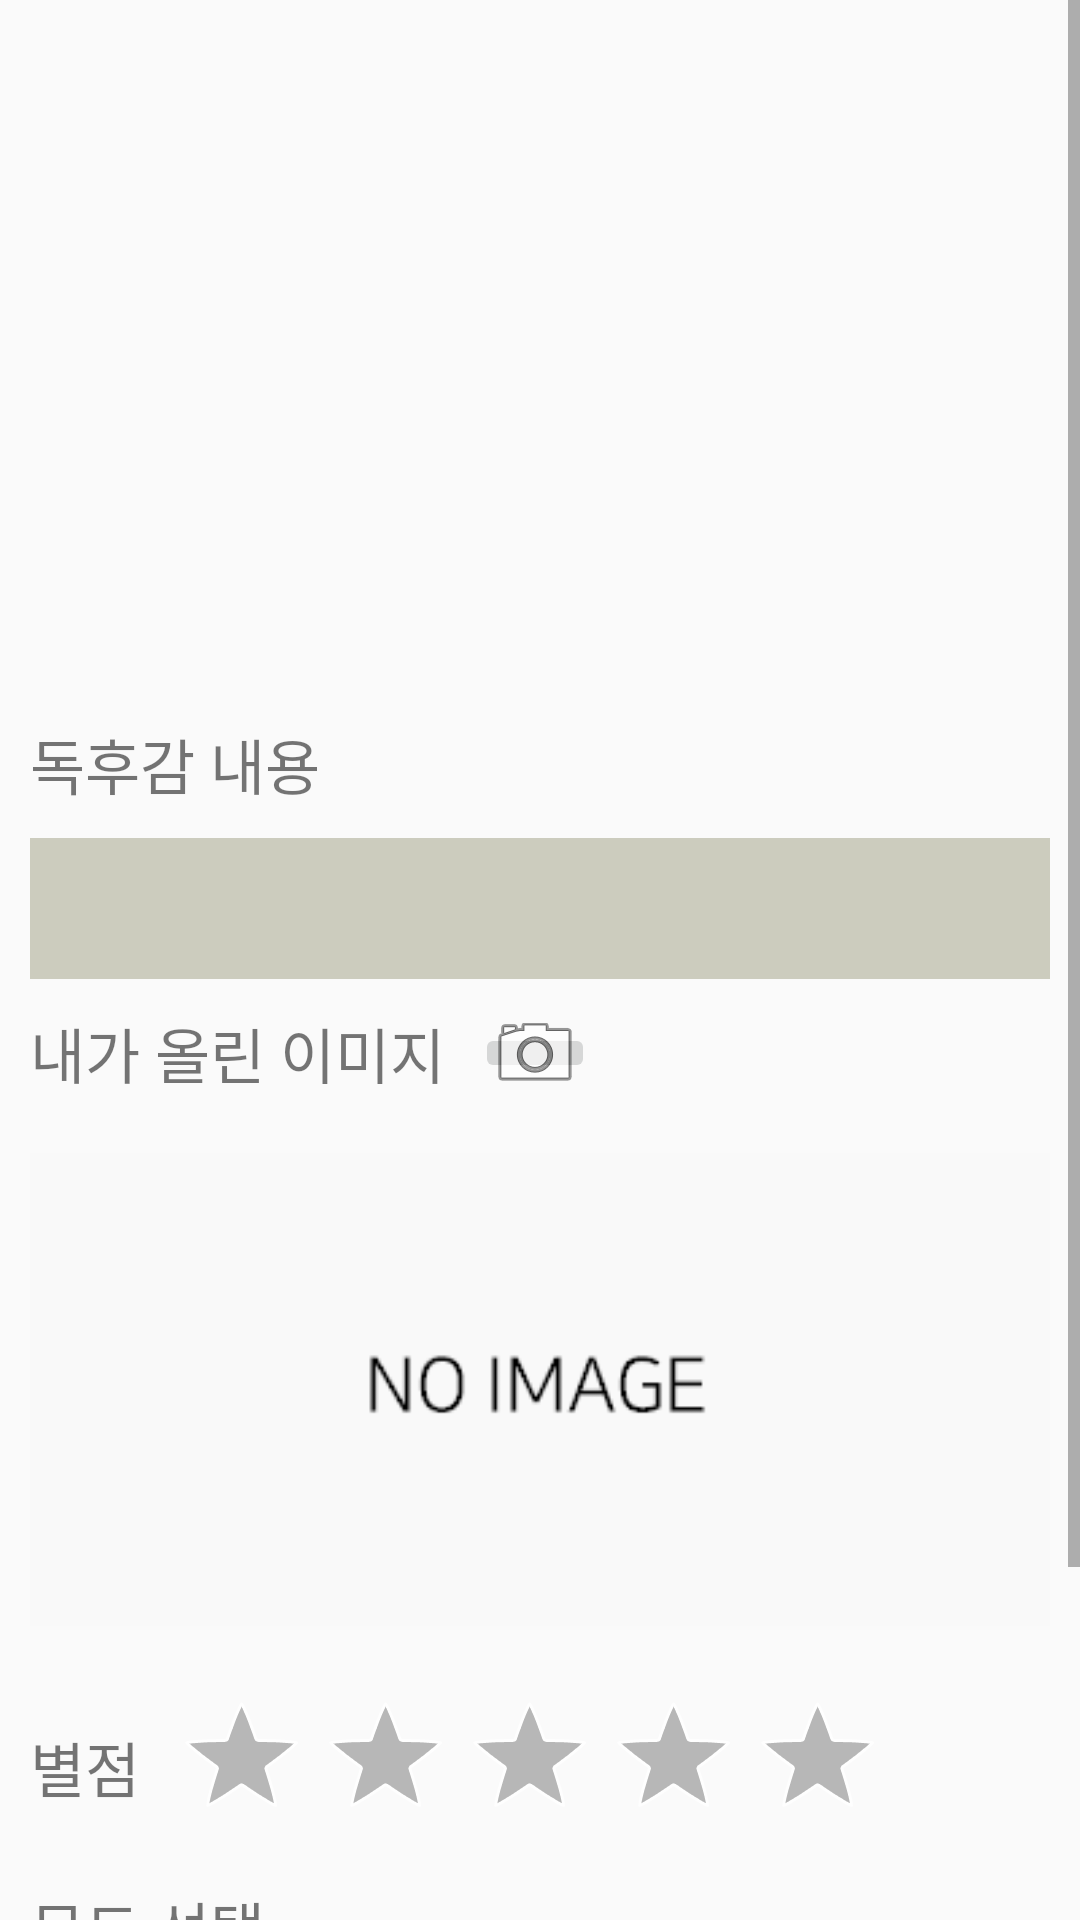

Icons on this 1080×1920 Android screen, each with the point to tap as (x=x, y=y):
camera: (x=535, y=1052)
